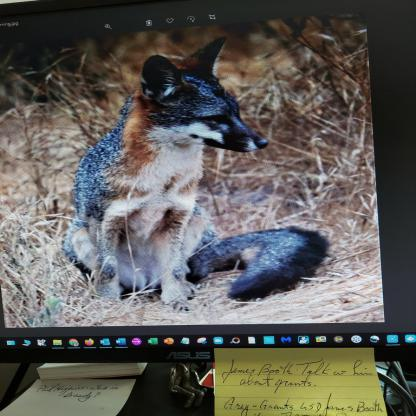zorro: (57, 35, 348, 306)
